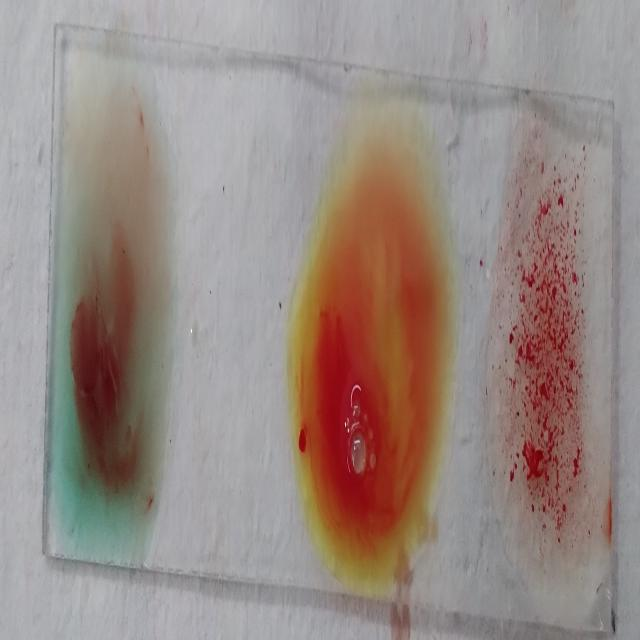D: (494, 133, 598, 577)
